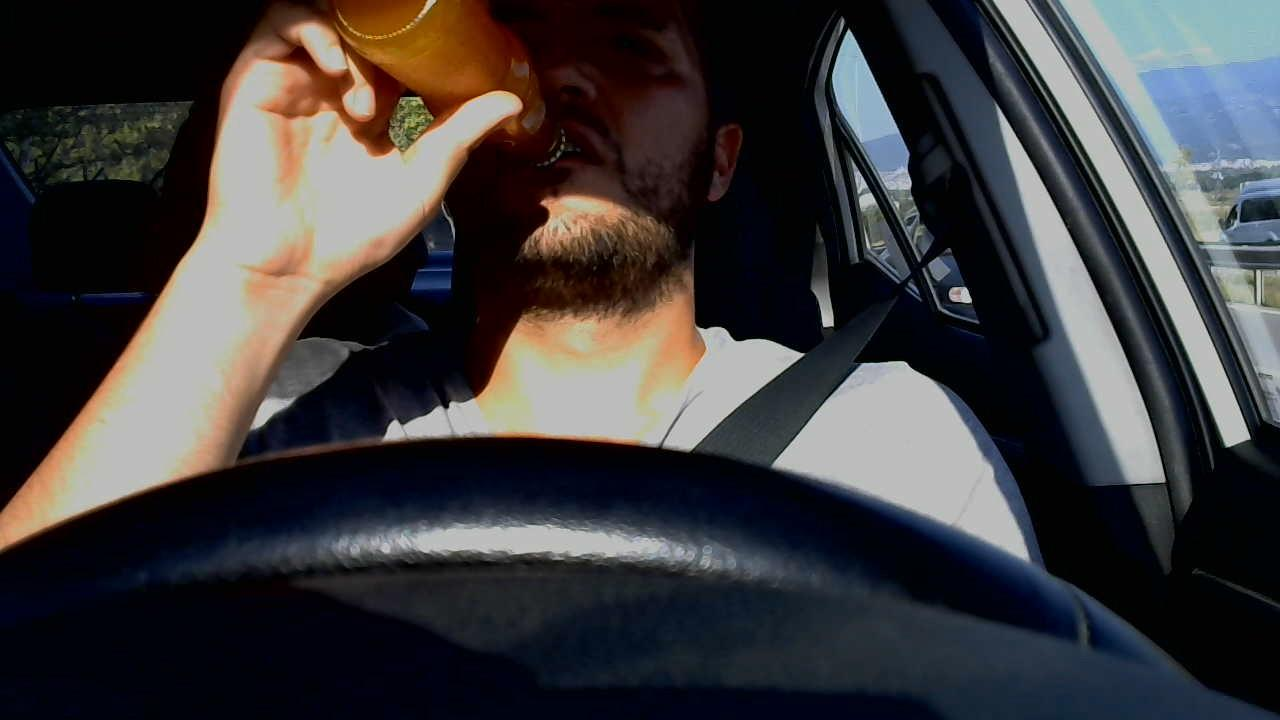Drinking: (315, 2, 740, 287)
